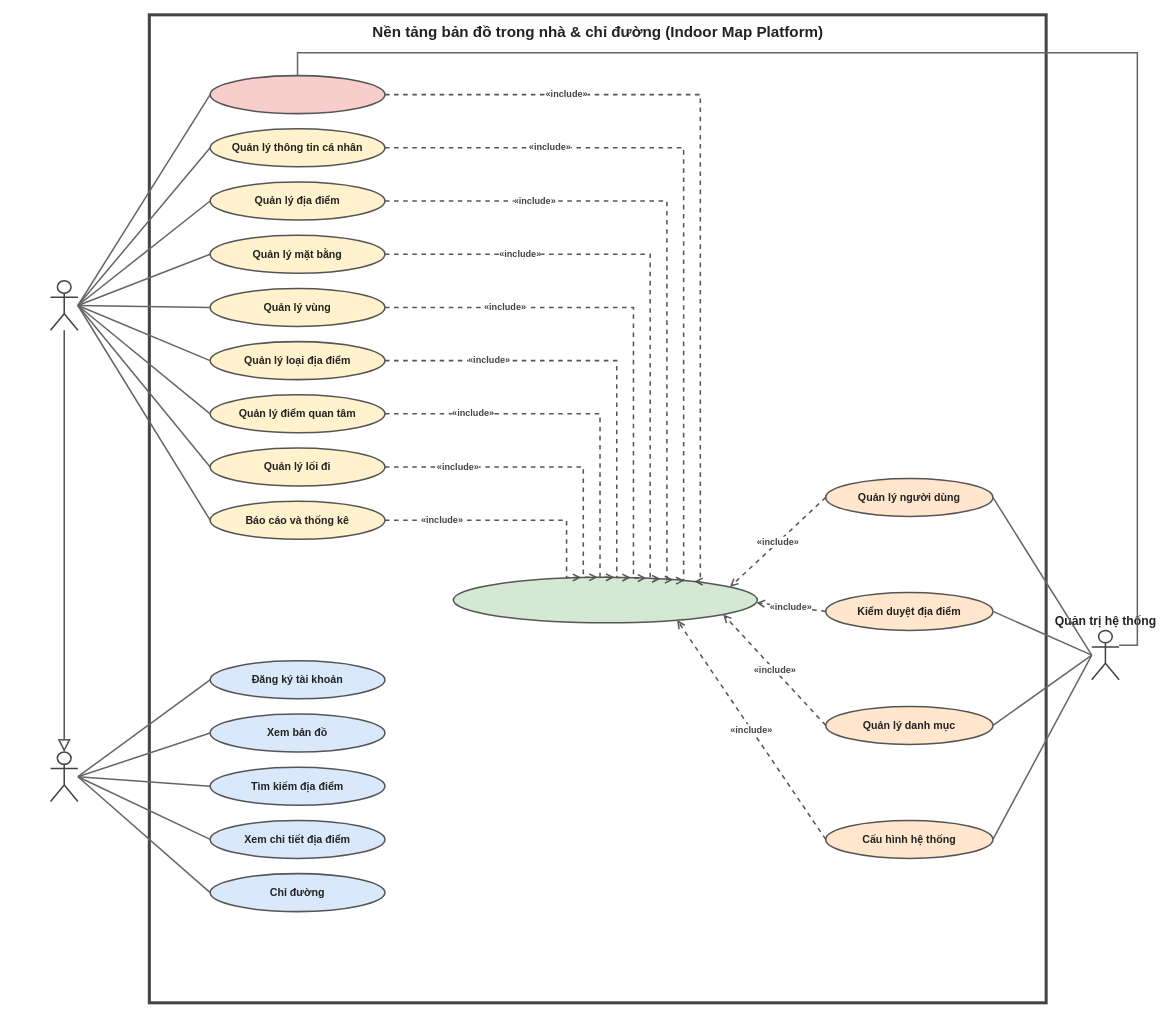
Image size: 1169x1017. Some labels were removed from this diagram. Each missing label, with the box of its shape:
Khách tham quan: (49, 751, 78, 802)
Quản trị địa điểm: (49, 280, 78, 331)
Đăng nhập: (452, 576, 758, 623)
Đăng xuất: (209, 74, 385, 114)
